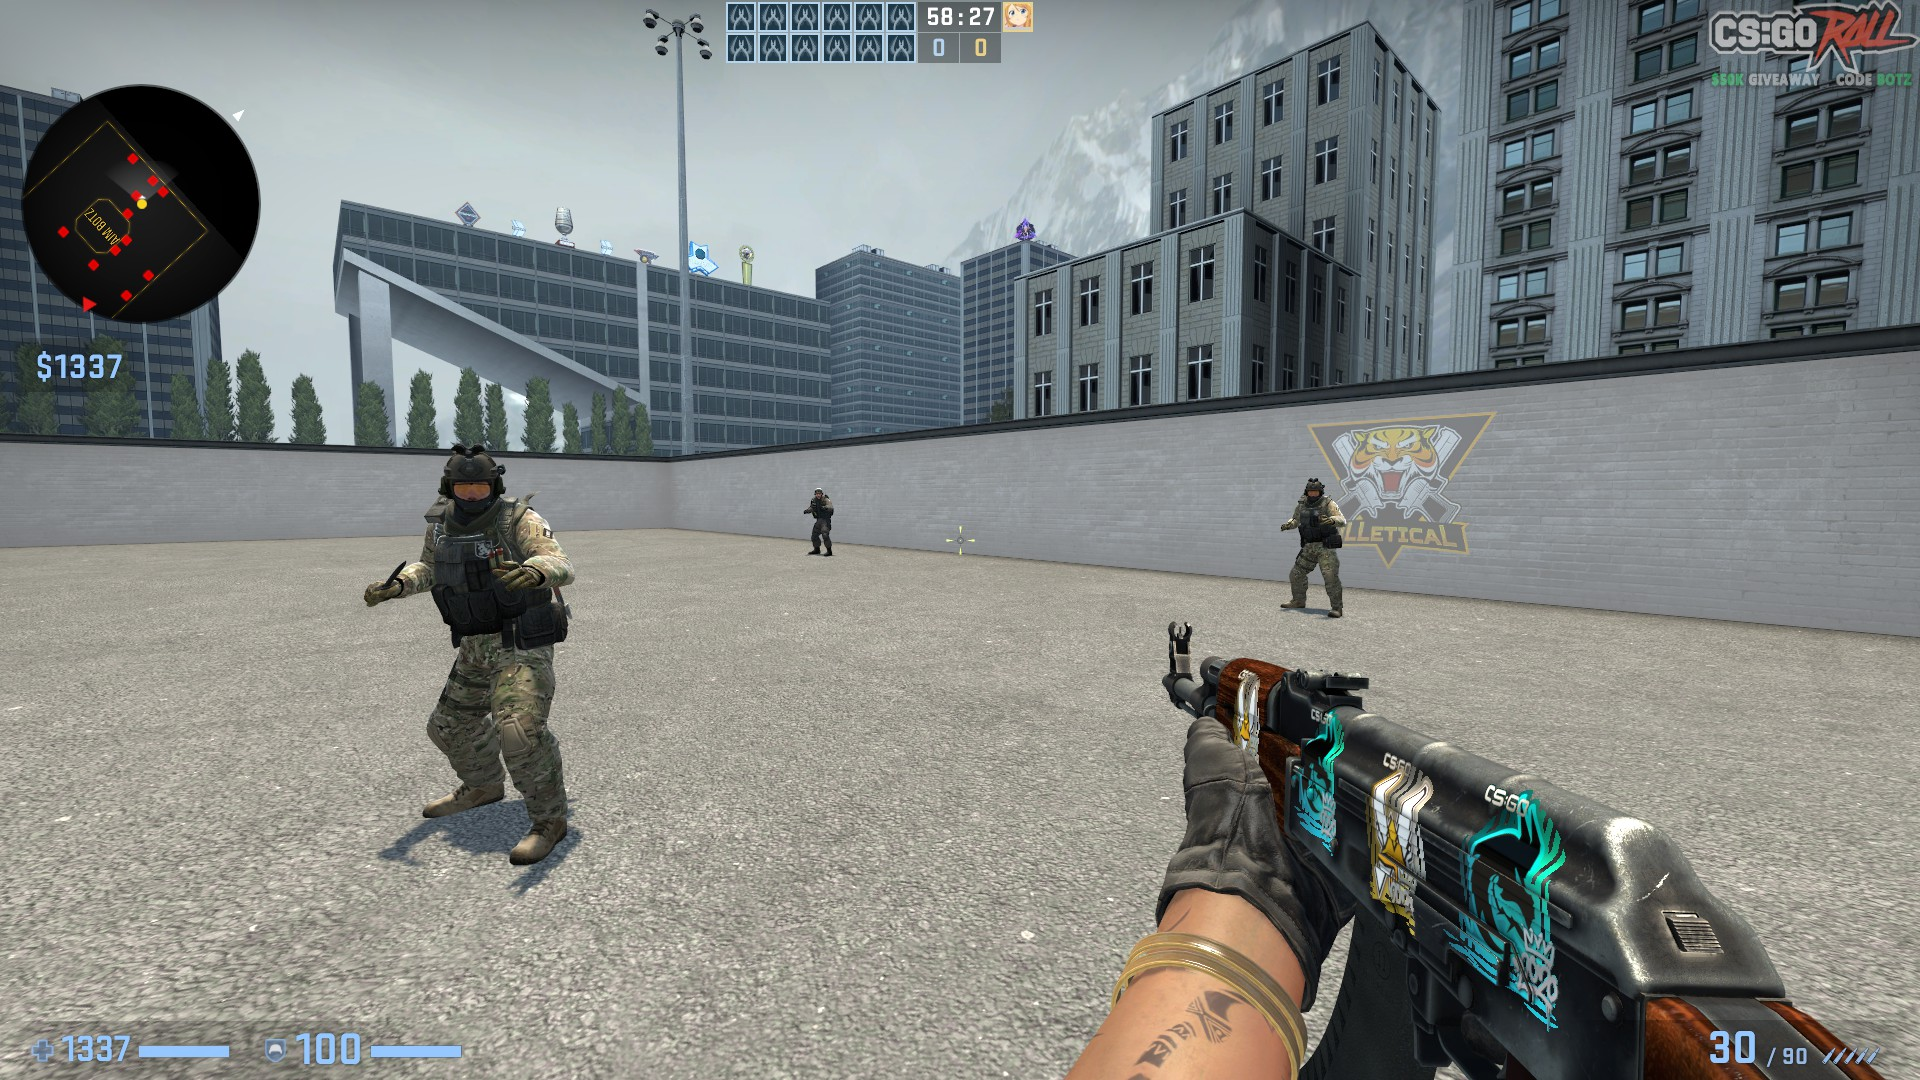head: (444, 440, 504, 515), (1307, 478, 1322, 501), (812, 487, 821, 497)
